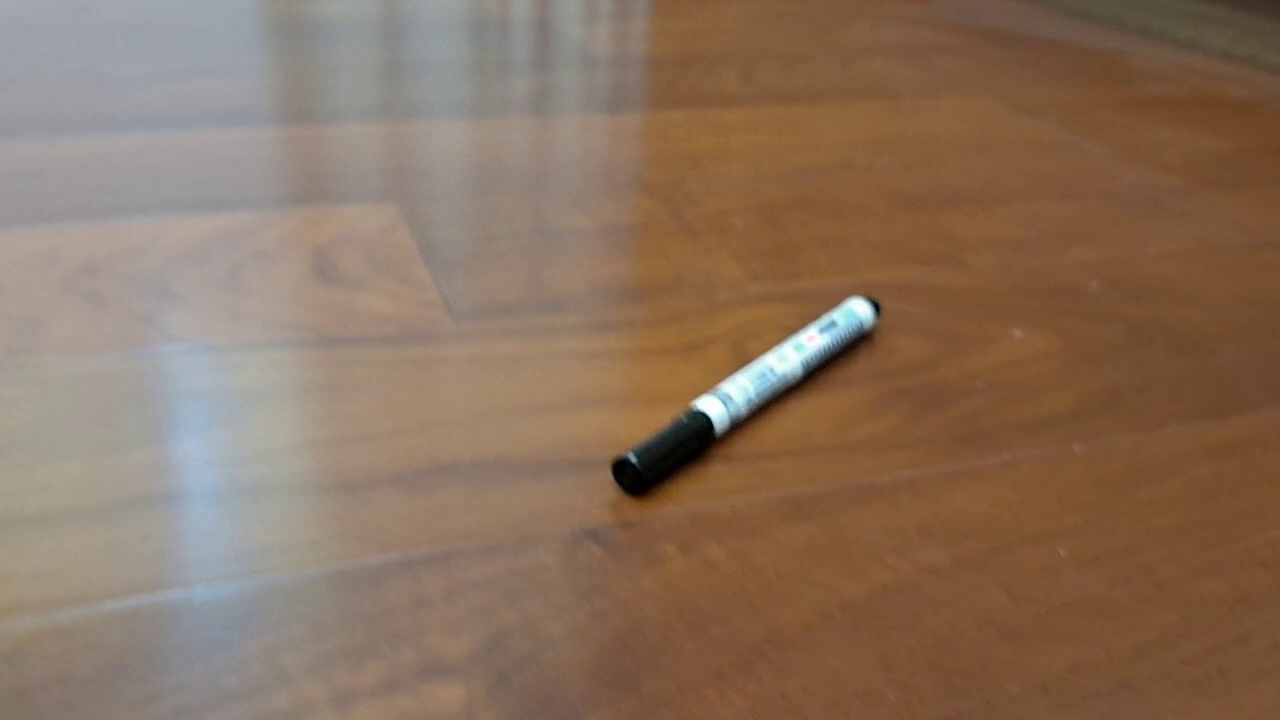pen: (610, 295, 880, 498)
